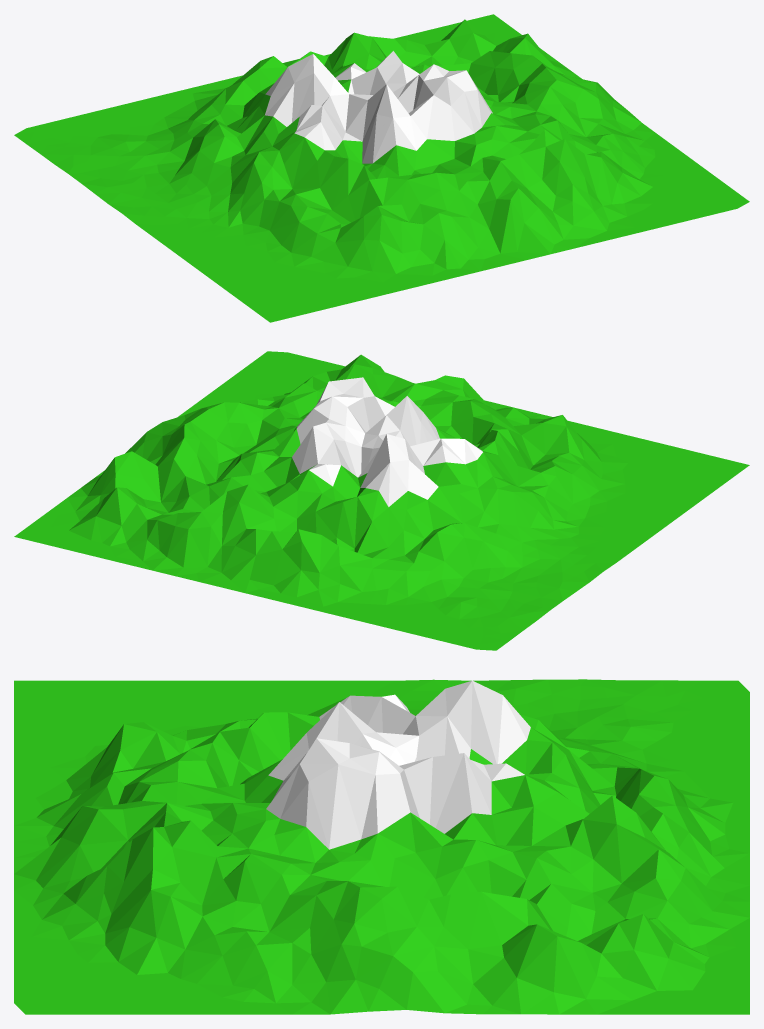
Rendered from mountain1.FBX.
The picture shows the model from 3 angles, top to bottom: view 1: azimuth 30°, elevation 25°; view 2: azimuth 150°, elevation 25°; view 3: azimuth 270°, elevation 25°; orthographic projection. The views are drawn at different scales.
Parts seen in each view (by area): view 1: Rectangle001; view 2: Rectangle001; view 3: Rectangle001.
Part boxes in pixels (x1,y1,x2,y2): Rectangle001: [14, 14, 749, 322]; Rectangle001: [14, 351, 749, 650]; Rectangle001: [14, 679, 749, 1014].
Bounding box in the file's own units: 323 × 63.93 × 301.
